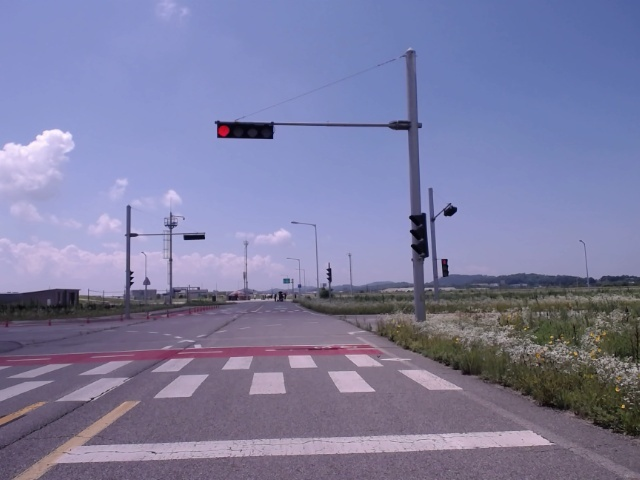red_4: (217, 122, 273, 140)
